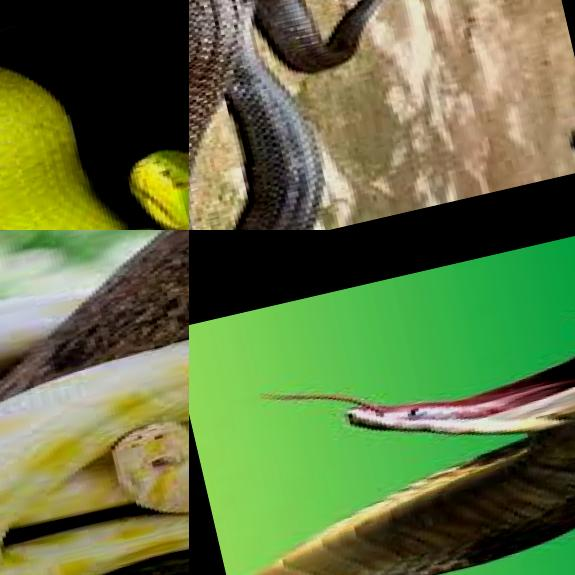snake: (189, 282, 575, 575), (189, 0, 575, 230), (0, 303, 189, 575), (0, 0, 189, 230)
